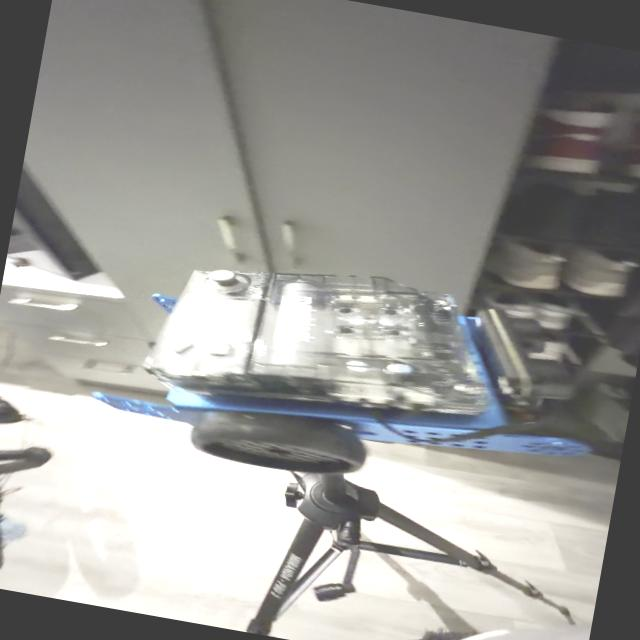mbot-detection: (71, 222, 621, 528)
